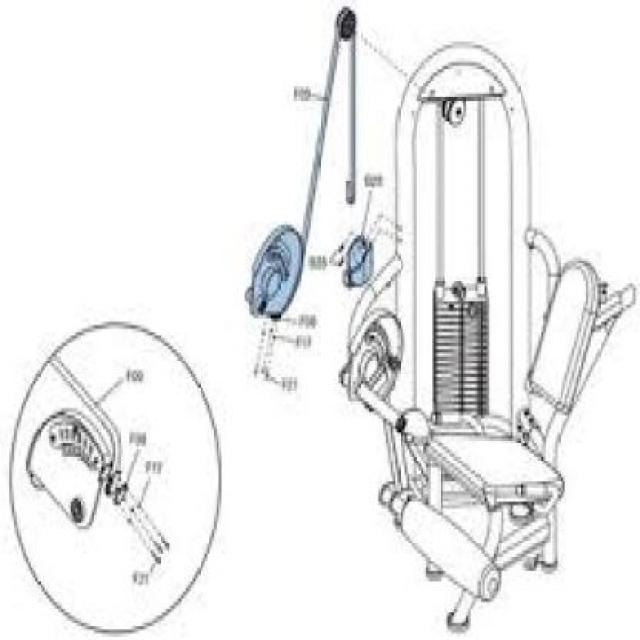leg extension: (335, 29, 640, 637)
